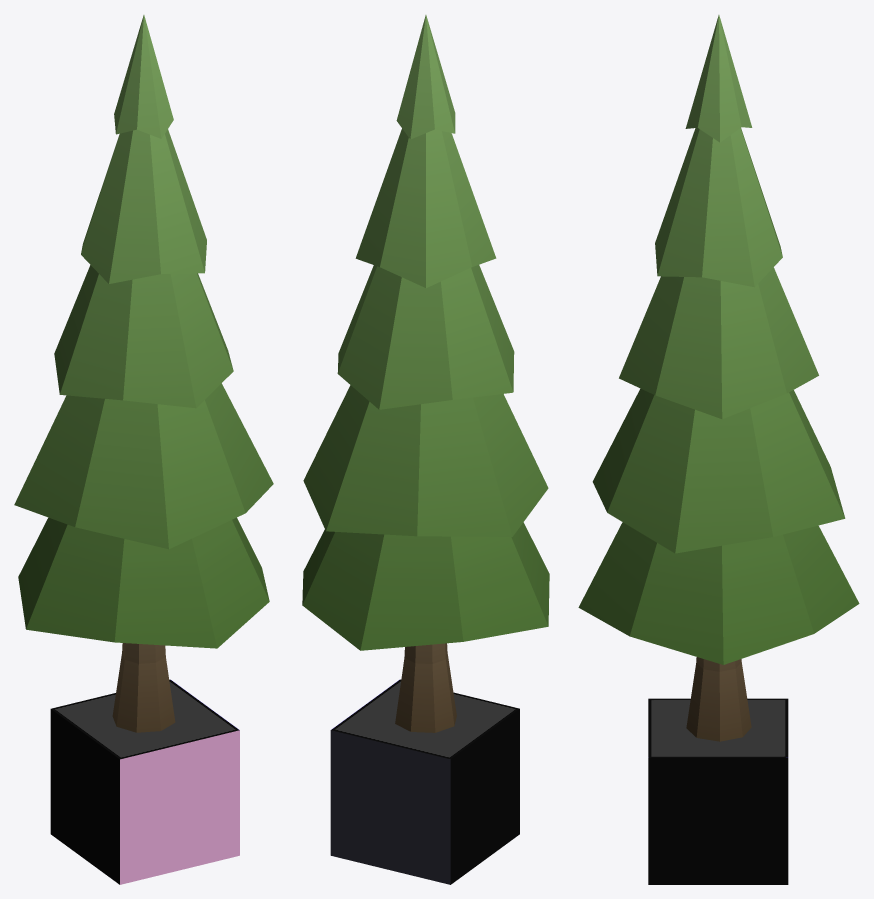
File: tree.glb
The picture shows the model from 3 angles, left to right: view 1: azimuth 30°, elevation 25°; view 2: azimuth 150°, elevation 25°; view 3: azimuth 270°, elevation 25°; orthographic projection.
Parts seen in each view (by area): view 1: floor_cube.001; view 2: floor_cube.001; view 3: floor_cube.001.
Boxes of the visible parts, x1,y1,x2,y2 form: floor_cube.001: (14,15,273,884); floor_cube.001: (302,15,549,884); floor_cube.001: (578,15,859,884).
Bounding box in the file's own units: 2.01 × 6.62 × 2.01.
2 materials, 2 textured.
